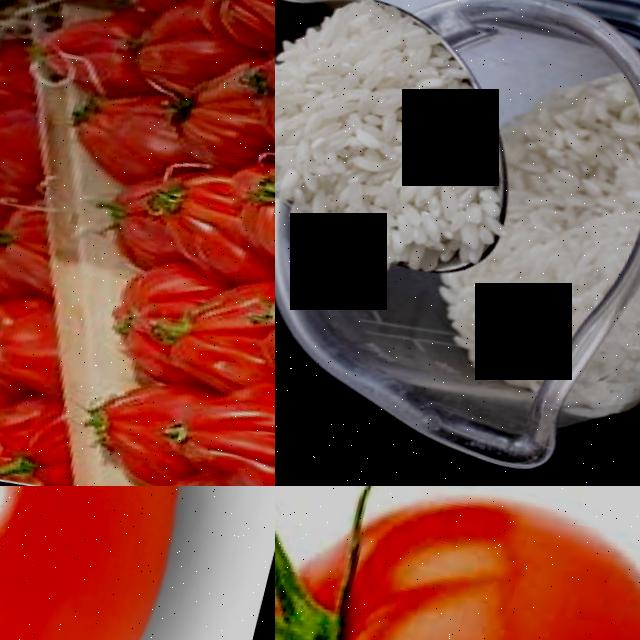tomato: (275, 486, 640, 640), (0, 486, 241, 640)
white rice: (275, 10, 519, 266), (471, 103, 614, 388)
